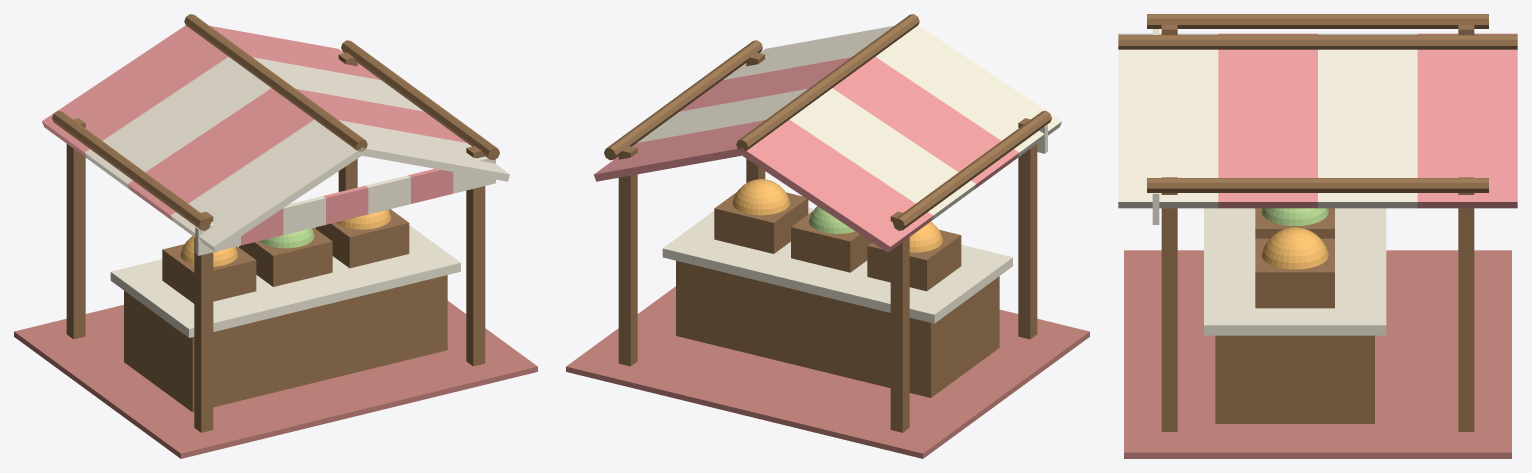
The model's file is ASTX_BUILDING_MARKET.glb.
3 renders of one model, left to right at view 1: azimuth 30°, elevation 25°; view 2: azimuth 150°, elevation 25°; view 3: azimuth 270°, elevation 25°, orthographic. The views are drawn at different scales.
Visible parts, largest first — view 1: ASTX_BUILDING_MARKET_rug, ASTX_BUILDING_MARKET_counter, ASTX_BUILDING_MARKET_counterTop, ASTX_BUILDING_MARKET_panL3, ASTX_BUILDING_MARKET_panL1, ASTX_BUILDING_MARKET_panL2, ASTX_BUILDING_MARKET_panL0, ASTX_BUILDING_MARKET_panR3, ASTX_BUILDING_MARKET_post-1.6-1.3, ASTX_BUILDING_MARKET_post1.61.3, ASTX_BUILDING_MARKET_post-1.61.3, ASTX_BUILDING_MARKET_panR2 (+18 smaller); view 2: ASTX_BUILDING_MARKET_rug, ASTX_BUILDING_MARKET_counter, ASTX_BUILDING_MARKET_counterTop, ASTX_BUILDING_MARKET_panL0, ASTX_BUILDING_MARKET_panL2, ASTX_BUILDING_MARKET_panL1, ASTX_BUILDING_MARKET_panL3, ASTX_BUILDING_MARKET_panR0, ASTX_BUILDING_MARKET_post1.6-1.3, ASTX_BUILDING_MARKET_post-1.6-1.3, ASTX_BUILDING_MARKET_post-1.61.3, ASTX_BUILDING_MARKET_crate2 (+11 smaller); view 3: ASTX_BUILDING_MARKET_rug, ASTX_BUILDING_MARKET_counterTop, ASTX_BUILDING_MARKET_panR0, ASTX_BUILDING_MARKET_panR3, ASTX_BUILDING_MARKET_panR1, ASTX_BUILDING_MARKET_panR2, ASTX_BUILDING_MARKET_counter, ASTX_BUILDING_MARKET_ridge, ASTX_BUILDING_MARKET_beamR, ASTX_BUILDING_MARKET_beamL, ASTX_BUILDING_MARKET_crate2, ASTX_BUILDING_MARKET_post1.6-1.3 (+4 smaller).
Boxes of the visible parts, x1,y1,x2,y2 form: ASTX_BUILDING_MARKET_rug: [14, 301, 537, 458]; ASTX_BUILDING_MARKET_counter: [124, 275, 447, 412]; ASTX_BUILDING_MARKET_counterTop: [110, 225, 460, 337]; ASTX_BUILDING_MARKET_panL3: [170, 119, 365, 252]; ASTX_BUILDING_MARKET_panL1: [85, 56, 271, 189]; ASTX_BUILDING_MARKET_panL2: [127, 88, 314, 220]; ASTX_BUILDING_MARKET_panL0: [42, 25, 228, 157]; ASTX_BUILDING_MARKET_panR3: [338, 120, 510, 181]; ASTX_BUILDING_MARKET_post-1.6-1.3: [66, 118, 85, 339]; ASTX_BUILDING_MARKET_post1.61.3: [466, 146, 485, 366]; ASTX_BUILDING_MARKET_post-1.61.3: [194, 211, 213, 432]; ASTX_BUILDING_MARKET_panR2: [295, 88, 466, 142]; ASTX_BUILDING_MARKET_rug: [566, 286, 1089, 458]; ASTX_BUILDING_MARKET_counter: [676, 260, 999, 397]; ASTX_BUILDING_MARKET_counterTop: [662, 207, 1012, 323]; ASTX_BUILDING_MARKET_panL0: [738, 119, 933, 252]; ASTX_BUILDING_MARKET_panL2: [832, 56, 1018, 189]; ASTX_BUILDING_MARKET_panL1: [789, 88, 976, 220]; ASTX_BUILDING_MARKET_panL3: [875, 25, 1061, 157]; ASTX_BUILDING_MARKET_panR0: [593, 120, 765, 181]; ASTX_BUILDING_MARKET_post1.6-1.3: [618, 146, 637, 366]; ASTX_BUILDING_MARKET_post-1.6-1.3: [890, 211, 909, 432]; ASTX_BUILDING_MARKET_post-1.61.3: [1018, 118, 1037, 339]; ASTX_BUILDING_MARKET_crate2: [714, 192, 808, 253]; ASTX_BUILDING_MARKET_rug: [1124, 250, 1511, 458]; ASTX_BUILDING_MARKET_counterTop: [1204, 208, 1386, 335]; ASTX_BUILDING_MARKET_panR0: [1417, 49, 1517, 208]; ASTX_BUILDING_MARKET_panR3: [1118, 49, 1218, 208]; ASTX_BUILDING_MARKET_panR1: [1318, 49, 1417, 208]; ASTX_BUILDING_MARKET_panR2: [1218, 49, 1317, 208]; ASTX_BUILDING_MARKET_counter: [1215, 335, 1374, 423]; ASTX_BUILDING_MARKET_ridge: [1118, 35, 1517, 49]; ASTX_BUILDING_MARKET_beamR: [1147, 178, 1488, 192]; ASTX_BUILDING_MARKET_beamL: [1147, 14, 1488, 28]; ASTX_BUILDING_MARKET_crate2: [1255, 238, 1334, 308]; ASTX_BUILDING_MARKET_post1.6-1.3: [1458, 177, 1474, 431].
Size of the model in its own units: 4.2 by 3.12 by 3.5.
